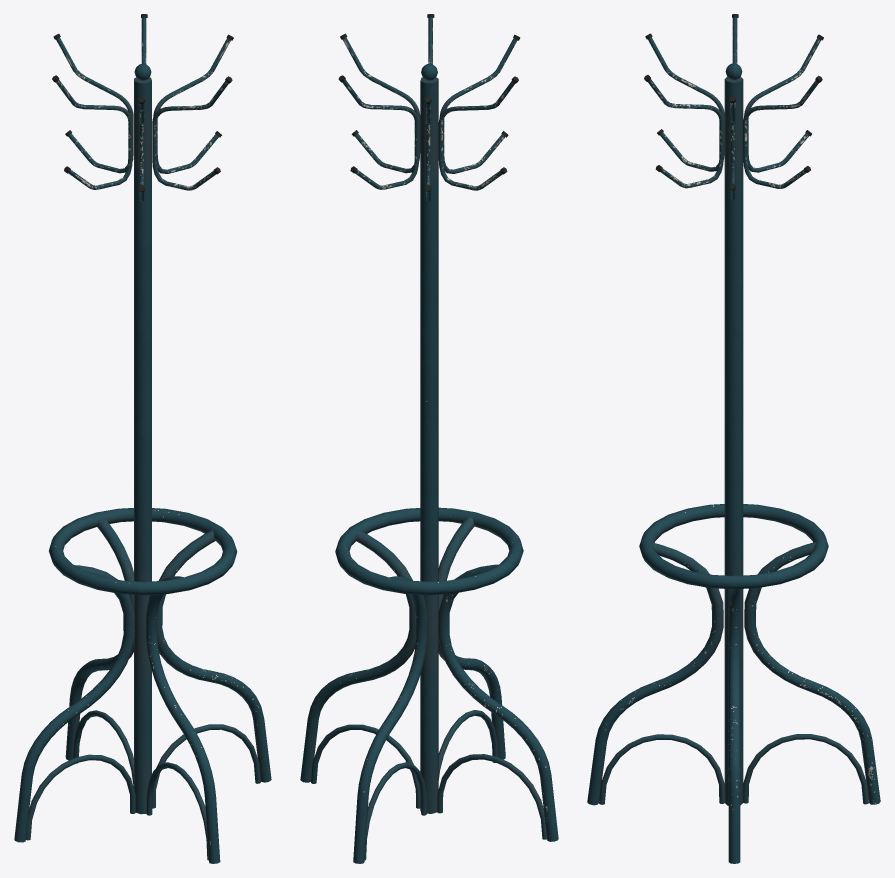
Rendered from Hanger.FBX.
3 renders of one model, left to right at view 1: azimuth 30°, elevation 25°; view 2: azimuth 150°, elevation 25°; view 3: azimuth 270°, elevation 25°, orthographic.
Visible parts, largest first — view 1: Hanger_LOD0; view 2: Hanger_LOD0; view 3: Hanger_LOD0.
Boxes of the visible parts, x1=… form: Hanger_LOD0: x1=14, y1=14, x2=271, y2=863; Hanger_LOD0: x1=300, y1=14, x2=558, y2=863; Hanger_LOD0: x1=587, y1=14, x2=880, y2=863.
Size of what is drawn, in the model's own units: 67.49 by 190 by 67.49.
